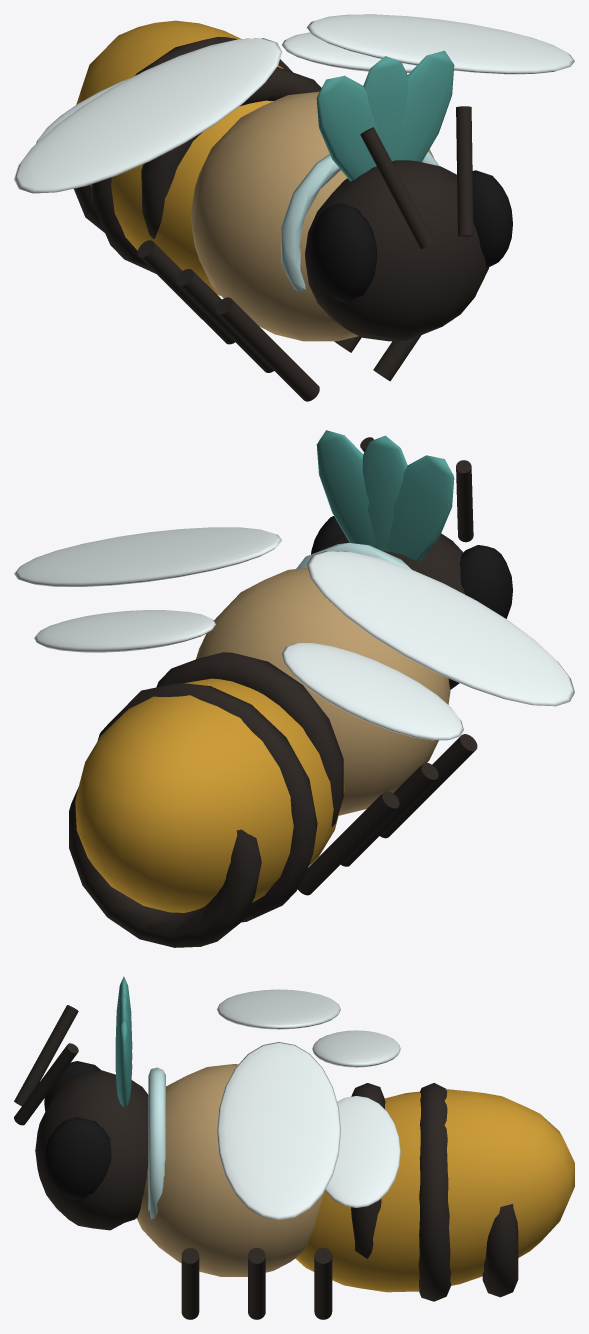
Rendered from mitsubachi.glb.
3 views of the same model, one above another, from view 1: azimuth 30°, elevation 25°; view 2: azimuth 150°, elevation 25°; view 3: azimuth 270°, elevation 25° (orthographic). The views are drawn at different scales.
Visible parts, largest first — view 1: thorax, w1_-1, head, abdomen, w1_1, eye-1, tuft0, tuft2, stripe0, tuft1, mark, eye1 (+9 smaller); view 2: abdomen, w1_-1, thorax, w1_1, w2_-1, stripe2, stripe1, stripe0, w2_1, tuft0, tuft2, tuft1 (+7 smaller); view 3: abdomen, w1_1, thorax, head, stripe1, w2_1, eye1, w1_-1, stripe2, w2_-1, mark, stripe0 (+8 smaller).
Part boxes in pixels (x1,y1,x2,y2): thorax: (190,91,434,341); w1_-1: (14,38,281,193); head: (305,160,488,341); abdomen: (76,20,283,295); w1_1: (307,14,574,74); eye-1: (310,203,376,302); tuft0: (316,75,377,181); tuft2: (396,50,454,162); stripe0: (141,67,321,238); tuft1: (363,56,408,161); mark: (281,151,439,293); eye1: (472,170,512,267); abdomen: (75,678,344,912); w1_-1: (307,551,574,706); thorax: (196,567,450,815); w1_1: (14,527,281,586); w2_-1: (282,643,463,740); stripe2: (69,787,261,947); stripe1: (97,683,317,922); stripe0: (156,652,343,826); w2_1: (34,610,215,652); tuft0: (387,455,454,560); tuft2: (316,430,375,546); tuft1: (362,435,407,551); abdomen: (295,1089,574,1292); w1_1: (217,1042,340,1220); thorax: (136,1064,322,1276); head: (35,1070,148,1230); stripe1: (418,1083,451,1301); w2_1: (325,1096,400,1207); eye1: (44,1117,111,1199); w1_-1: (217,989,340,1029); stripe2: (482,1204,518,1297); w2_-1: (312,1030,400,1067); mark: (148,1067,165,1219); stripe0: (351,1083,385,1258).
Bounding box in the file's own units: 0.2446 × 0.154 × 0.2532.
